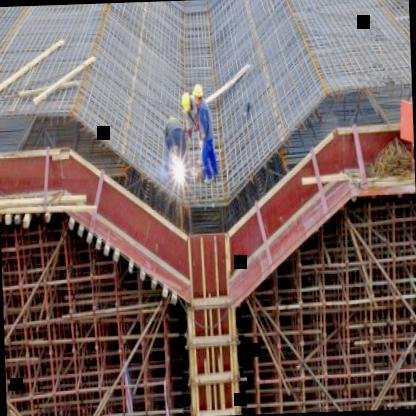helmet: (180, 87, 194, 119), (192, 80, 204, 109)
